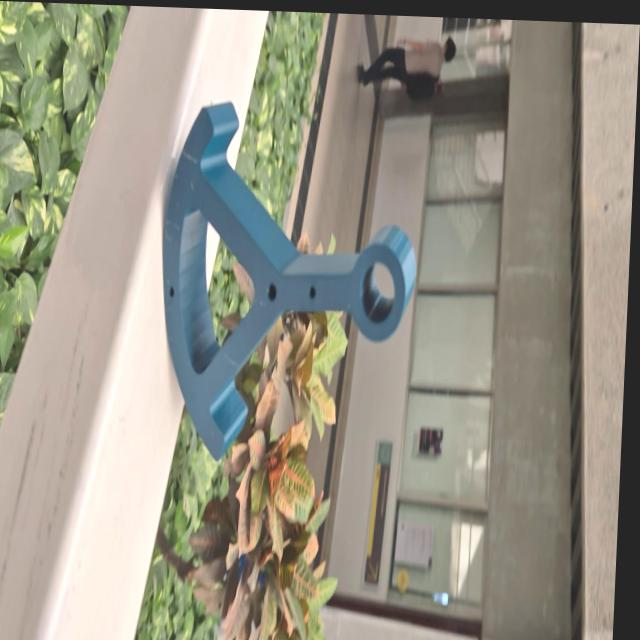haptic: (151, 96, 426, 469)
